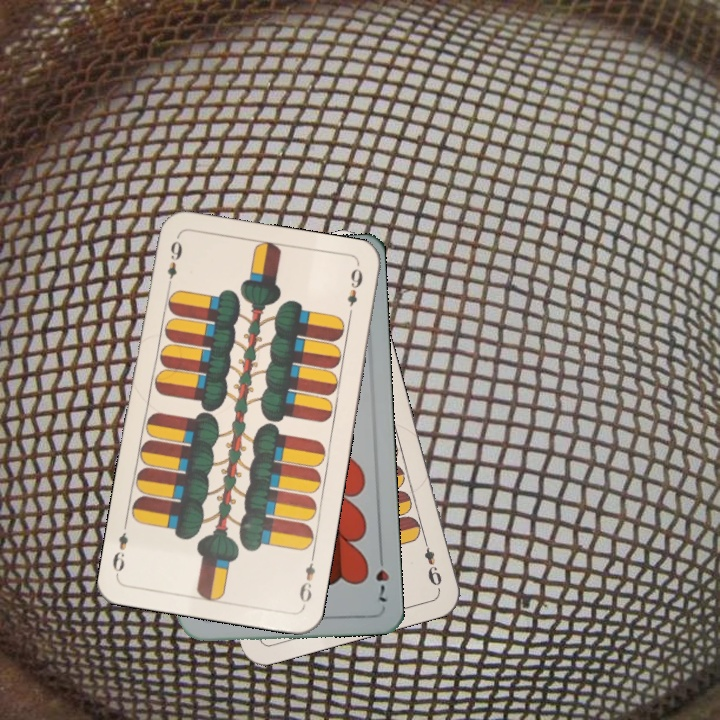E9: (419, 533, 445, 591), (295, 550, 318, 609), (163, 234, 185, 293)
H7: (371, 549, 391, 605)
